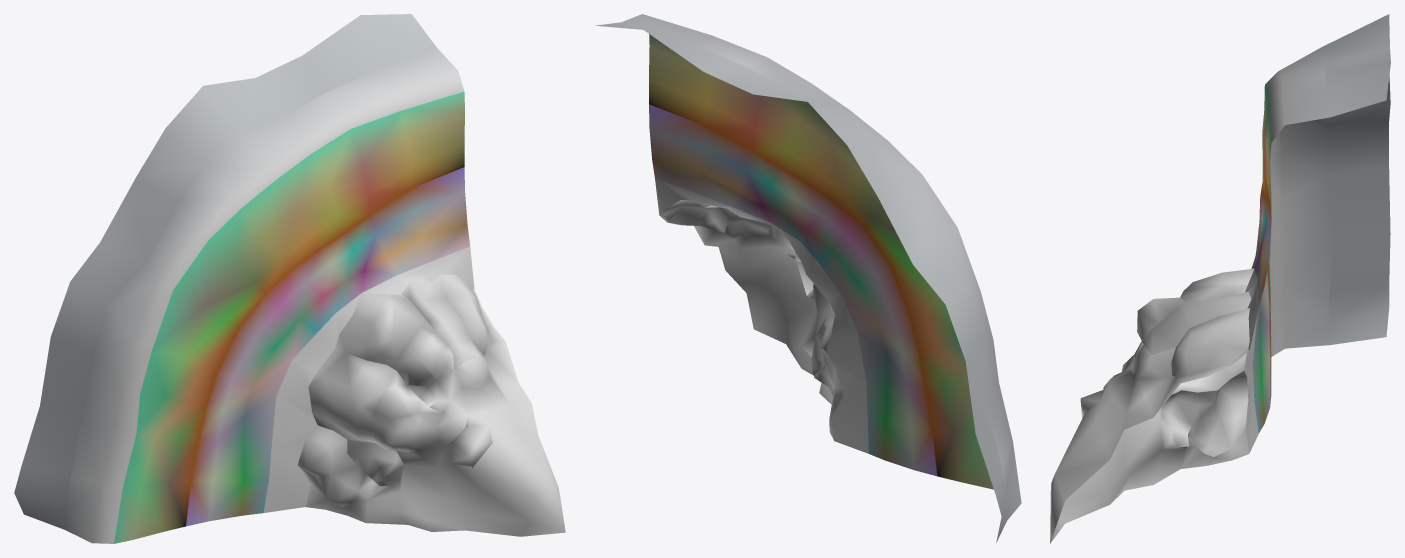
File: Volcano_CurveOutA_lod1.glb
3 views of the same model, side by side, from view 1: azimuth 30°, elevation 25°; view 2: azimuth 150°, elevation 25°; view 3: azimuth 270°, elevation 25° (orthographic). The views are drawn at different scales.
Visible parts, largest first — view 1: MeshNode_0, MeshNode_1; view 2: MeshNode_1, MeshNode_0; view 3: MeshNode_0, MeshNode_1.
Boxes of the visible parts, x1,y1,x2,y2 form: MeshNode_0: [14, 14, 565, 543]; MeshNode_1: [114, 92, 469, 543]; MeshNode_1: [649, 34, 993, 489]; MeshNode_0: [596, 14, 1021, 542]; MeshNode_0: [1050, 14, 1390, 543]; MeshNode_1: [1251, 84, 1271, 433].
Size of the model in its own units: 91.05 by 91.17 by 62.04.
